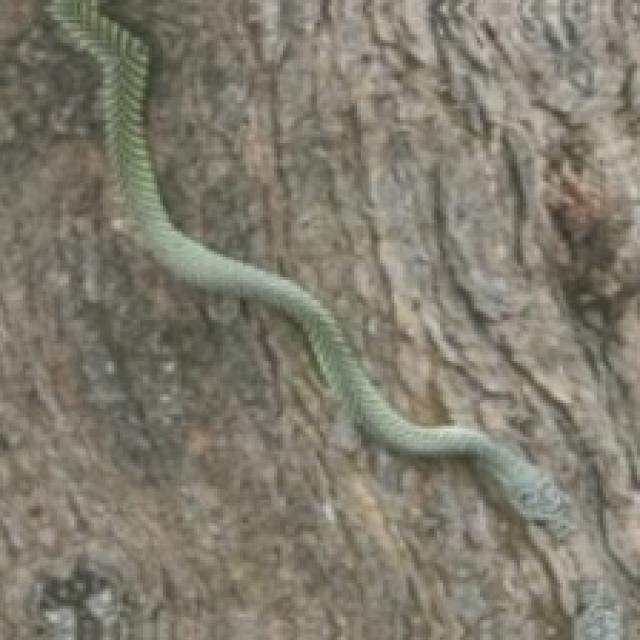paradise tree snake: (46, 0, 569, 537)
